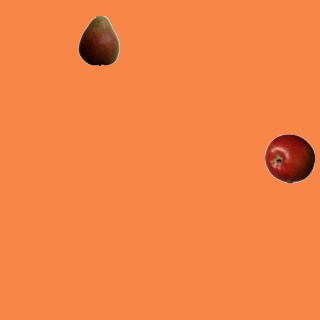Apple Braeburn: (264, 133, 314, 183)
Pear Forelle: (73, 15, 123, 65)
